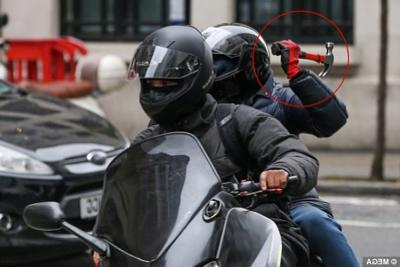With Helmet: (126, 20, 214, 122)
